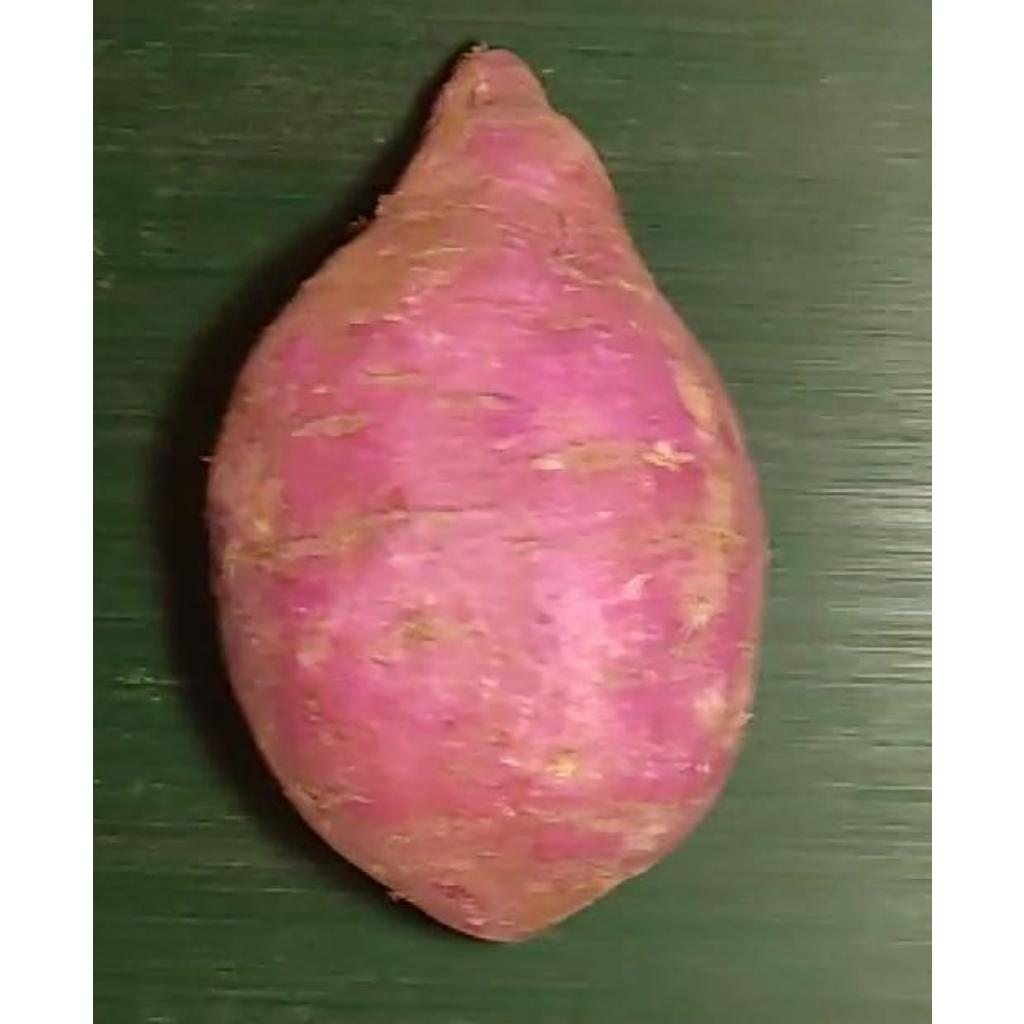Sweet Potato: (208, 40, 768, 946)
